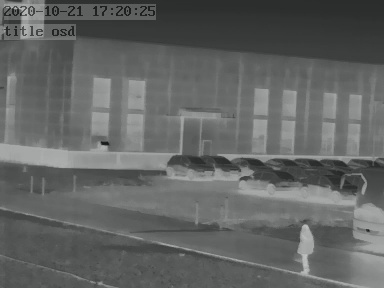person: (297, 223, 315, 276)
vehicle: (238, 169, 303, 191), (164, 153, 213, 178), (298, 175, 344, 200), (204, 153, 243, 177), (233, 154, 270, 171), (345, 155, 379, 172), (319, 156, 351, 171), (262, 155, 295, 169), (295, 155, 325, 169)
